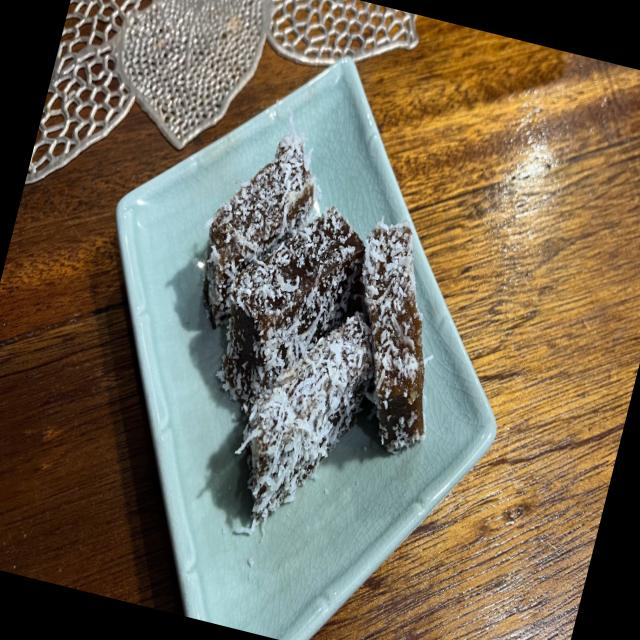kaswi: (218, 206, 365, 414), (236, 313, 373, 534), (203, 120, 314, 328), (362, 221, 425, 452)
